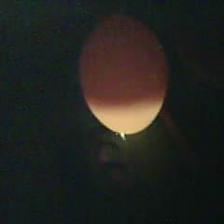fertile: (75, 11, 171, 137)
